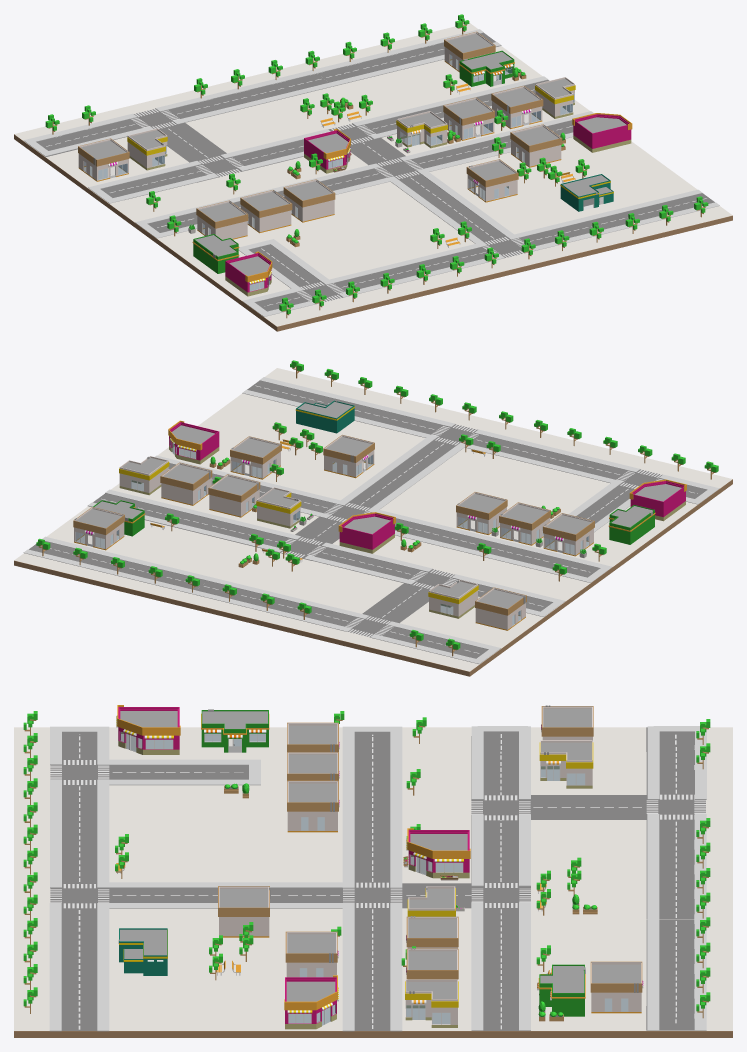
The model's file is Instacart_Project_Background1.gltf.
The picture shows the model from 3 angles, top to bottom: view 1: azimuth 30°, elevation 25°; view 2: azimuth 150°, elevation 25°; view 3: azimuth 270°, elevation 25°; orthographic projection. The views are drawn at different scales.
Visible parts, largest first — view 1: Plane, House-Pink Light (×11), Road (×8), Cube, House.1-Mat.5 (×3), House.2-Mat.9 (×2), Cube.27, Cube.26, Roof (×2), Cube.20, Cube.8, Cube.5 (+12 smaller); view 2: Plane, House-Pink Light (×12), Road (×7), Cube, House.1-Mat.5 (×3), Cube.27, Cube.26, Cube.4, Cube.19, Cube.7, House-dark blue, Cube.5 (+14 smaller); view 3: Plane, Road (×57), Roof (×18), House-Pink Light (×6), Cube, House-Brown (×7), Lines (×5), Cube.26, House.2-Mat.9 (×2), Cube.4, Cube.5, Cube.27 (+21 smaller).
Boxes of the visible parts, x1=… form: Plane: x1=14, y1=23, x2=732, y2=326; House-Pink Light (×11): x1=78, y1=77, x2=574, y2=239; Road (×8): x1=130, y1=108, x2=527, y2=301; Cube: x1=14, y1=134, x2=732, y2=331; House.1-Mat.5 (×3): x1=225, y1=114, x2=631, y2=292; House.2-Mat.9 (×2): x1=193, y1=50, x2=514, y2=273; Cube.27: x1=155, y1=29, x2=483, y2=111; Cube.26: x1=173, y1=42, x2=500, y2=124; Roof (×2): x1=195, y1=52, x2=512, y2=256; Cube.20: x1=352, y1=76, x2=548, y2=126; Cube.8: x1=506, y1=189, x2=702, y2=239; Cube.5: x1=135, y1=163, x2=380, y2=224; Plane: x1=14, y1=368, x2=732, y2=671; House-Pink Light (×12): x1=74, y1=435, x2=593, y2=629; Road (×7): x1=274, y1=424, x2=479, y2=637; Cube: x1=14, y1=479, x2=732, y2=676; House.1-Mat.5 (×3): x1=169, y1=422, x2=685, y2=549; Cube.27: x1=23, y1=549, x2=351, y2=631; Cube.26: x1=42, y1=536, x2=368, y2=619; Cube.4: x1=367, y1=510, x2=612, y2=568; Cube.19: x1=105, y1=489, x2=301, y2=539; Cube.7: x1=259, y1=377, x2=455, y2=427; House-dark blue: x1=296, y1=400, x2=354, y2=433; Cube.5: x1=395, y1=530, x2=593, y2=582; Plane: x1=14, y1=727, x2=732, y2=1030; Road (×57): x1=50, y1=727, x2=705, y2=1030; Roof (×18): x1=120, y1=708, x2=640, y2=1001; House-Pink Light (×6): x1=219, y1=740, x2=641, y2=1024; Cube: x1=14, y1=1031, x2=732, y2=1037; House-Brown (×7): x1=218, y1=706, x2=642, y2=992; Lines (×5): x1=50, y1=760, x2=705, y2=907; Cube.26: x1=647, y1=814, x2=659, y2=1030; House.2-Mat.9 (×2): x1=201, y1=710, x2=584, y2=1016; Cube.4: x1=342, y1=726, x2=354, y2=887; Cube.5: x1=390, y1=726, x2=402, y2=887; Cube.27: x1=694, y1=814, x2=706, y2=1030.
Size of the model in its own units: 2001 by 114 by 2000.
